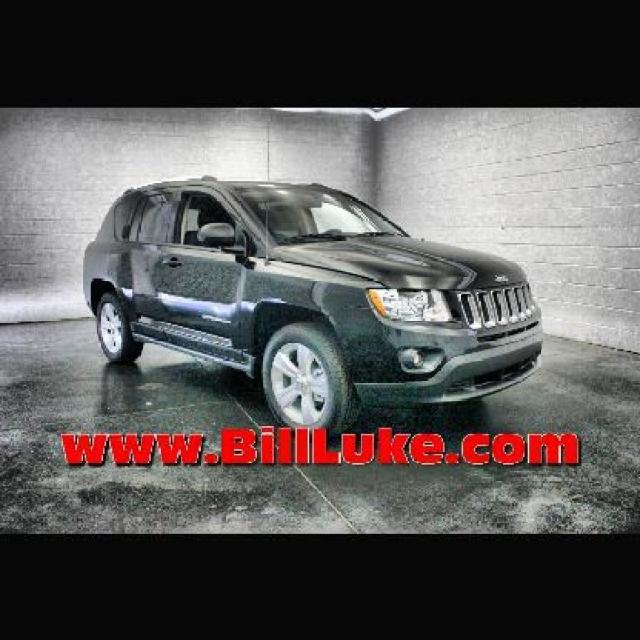black: (80, 176, 545, 418)
